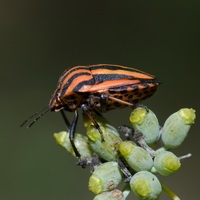insect: (29, 64, 158, 125)
